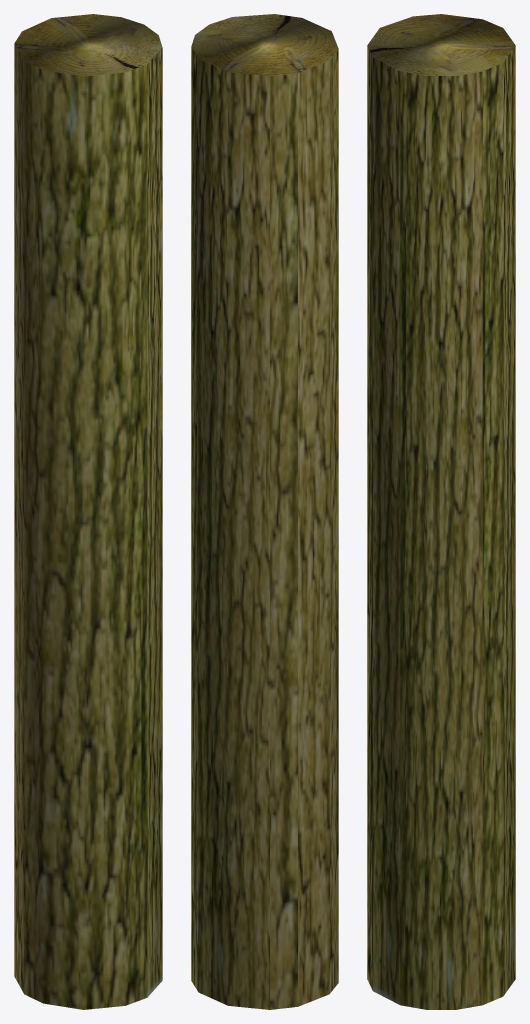
Rendered from bulk.fbx.
3 views of the same model, side by side, from view 1: azimuth 30°, elevation 25°; view 2: azimuth 150°, elevation 25°; view 3: azimuth 270°, elevation 25° (orthographic).
Visible parts, largest first — view 1: Cylinder; view 2: Cylinder; view 3: Cylinder.
Part boxes in pixels (<box>): Cylinder: <box>14,14,162,1009</box>; Cylinder: <box>191,14,338,1009</box>; Cylinder: <box>367,14,515,1009</box>.
Size of the model in its own units: 10.89 by 76.34 by 11.
1 material, 1 textured.
